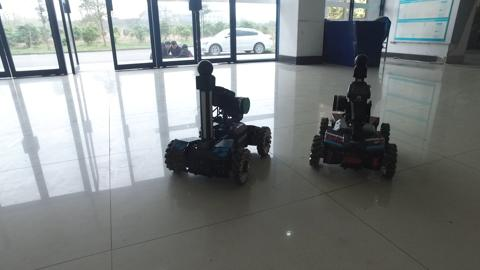car: (197, 20, 276, 59)
chariot: (300, 45, 414, 190), (159, 57, 279, 187)
